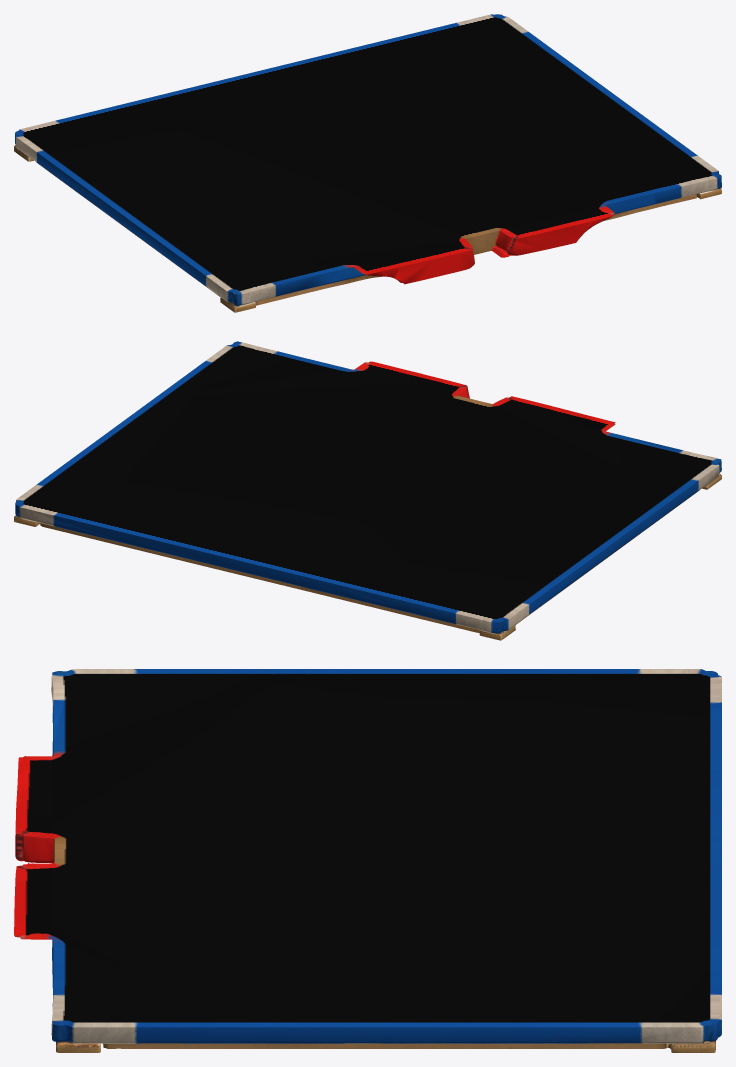
File: 7-roof.fbx
3 views of the same model, one above another, from view 1: azimuth 30°, elevation 25°; view 2: azimuth 150°, elevation 25°; view 3: azimuth 270°, elevation 25° (orthographic). The views are drawn at different scales.
Visible parts, largest first — view 1: roof; view 2: roof; view 3: roof.
Part boxes in pixels (x1,y1,x2,y2): roof: (14,14,721,312); roof: (14,341,721,640); roof: (14,669,721,1052).
Bounding box in the file's own units: 9536 × 336 × 7963.
1 material, 1 textured.
